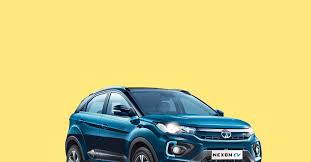Tata Nexon: (61, 85, 263, 162)
